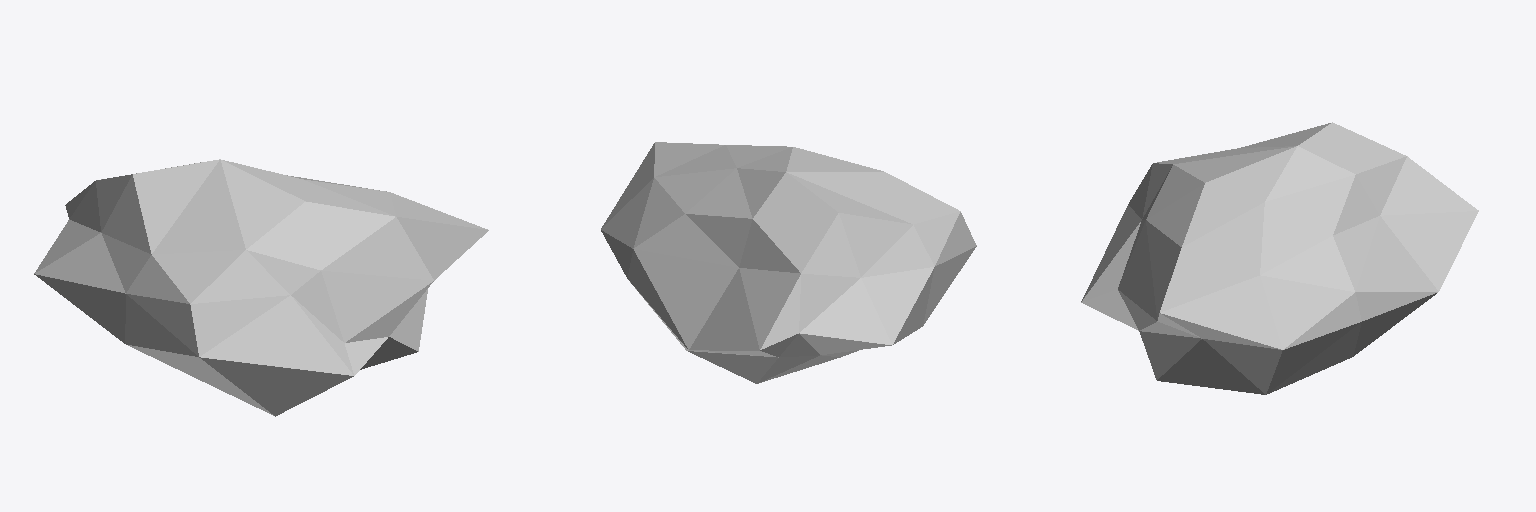
The model's file is bush_4.obj.
3 views of the same model, side by side, from view 1: azimuth 30°, elevation 25°; view 2: azimuth 150°, elevation 25°; view 3: azimuth 270°, elevation 25° (orthographic).
Parts seen in each view (by area): view 1: bush_4; view 2: bush_4; view 3: bush_4.
Part boxes in pixels (bbox=[...]): bush_4: bbox=[34, 159, 488, 416]; bush_4: bbox=[601, 142, 976, 383]; bush_4: bbox=[1081, 122, 1478, 394].
Size of the model in its own units: 0.79 by 0.422 by 0.7859.